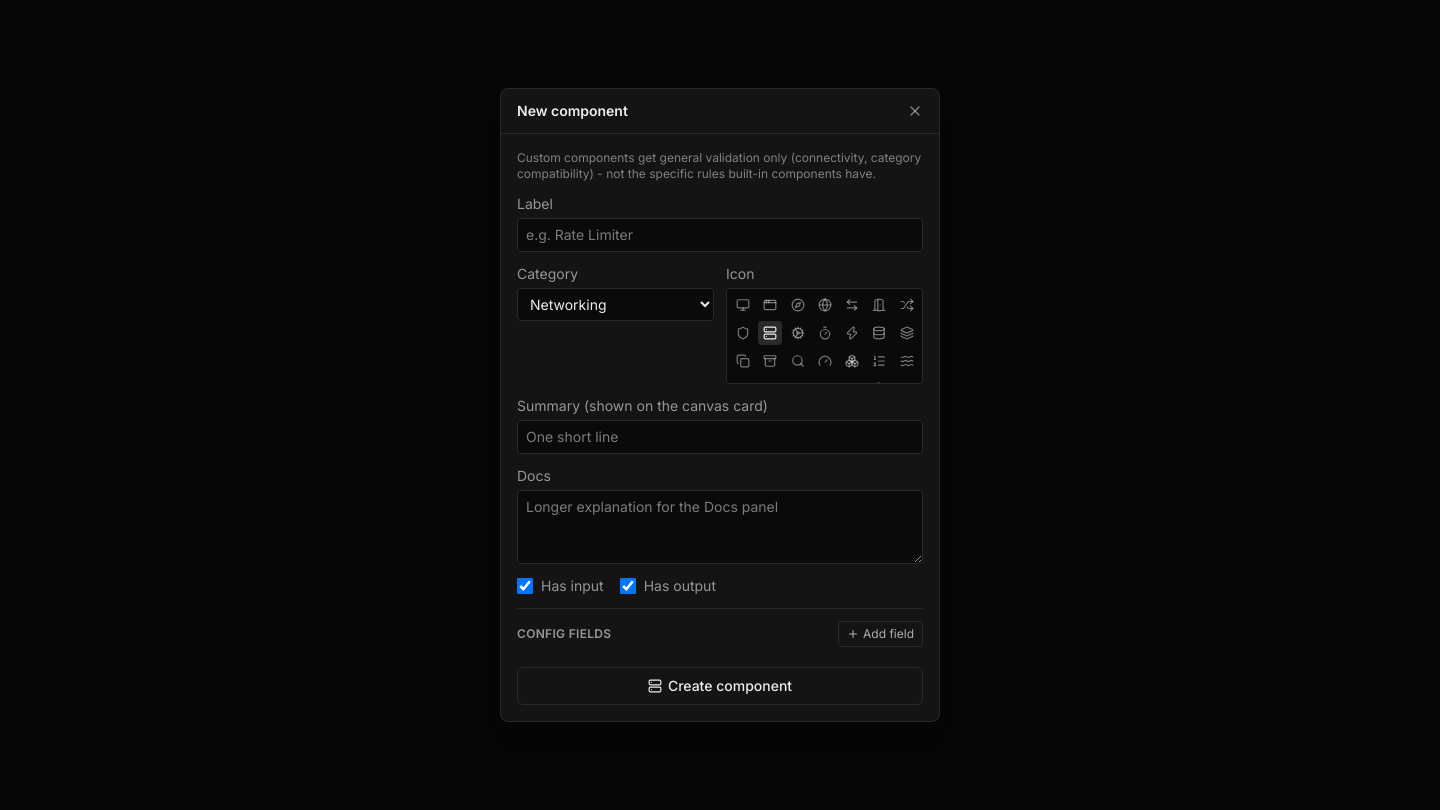
Scenario: CreateComponentModal › blocks save with a field-specific error when an enum field has no options
This screenshot has width=1440, height=810.
Type "Widget" into the field with placeholder "e.g. Rate Limiter" at (720, 235), box x1=517 y1=218 x2=923 y2=252
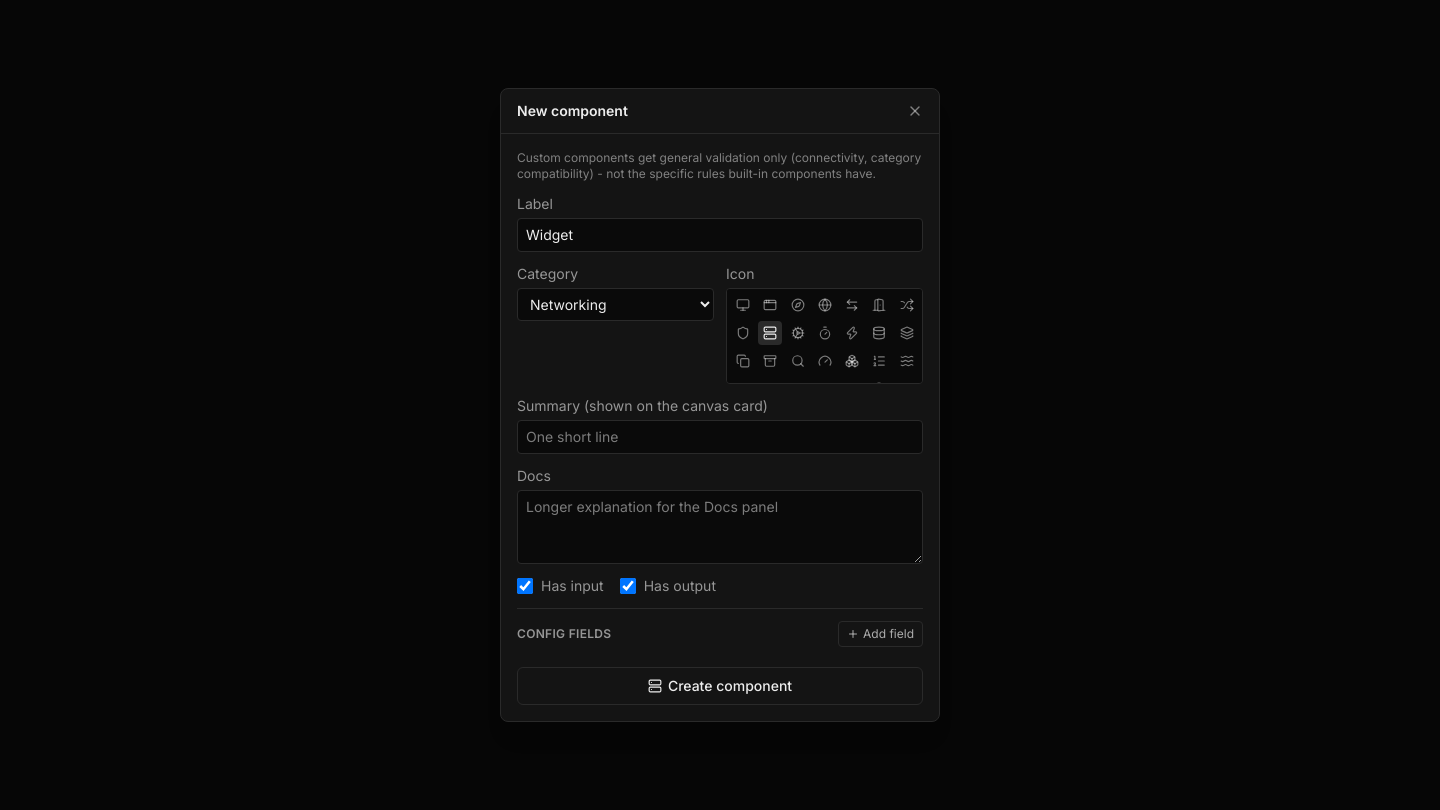
Click the button "Add field" at (880, 634), box x1=838 y1=621 x2=923 y2=647
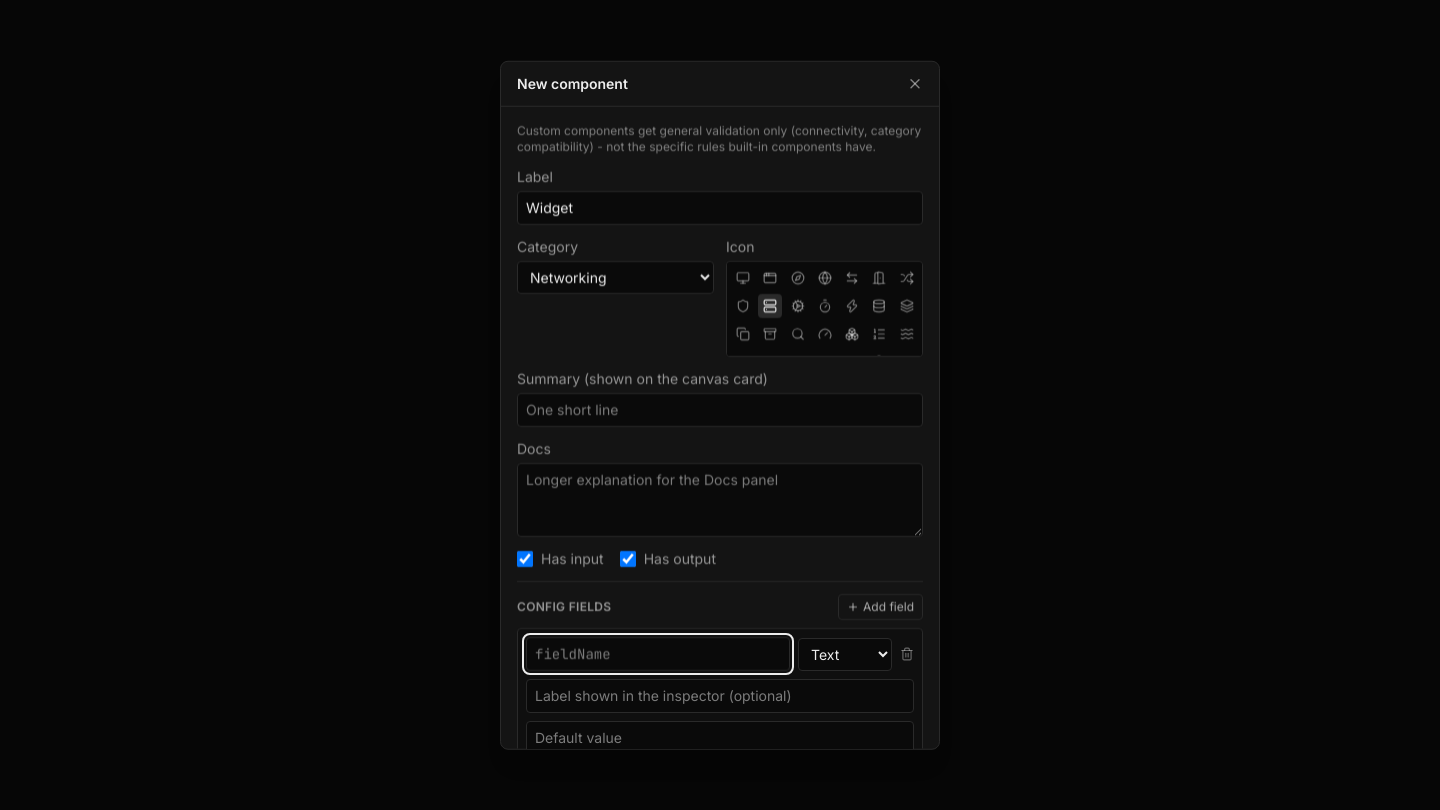
Type "tier" into the field with placeholder "fieldName" at (658, 654), box x1=526 y1=637 x2=790 y2=671
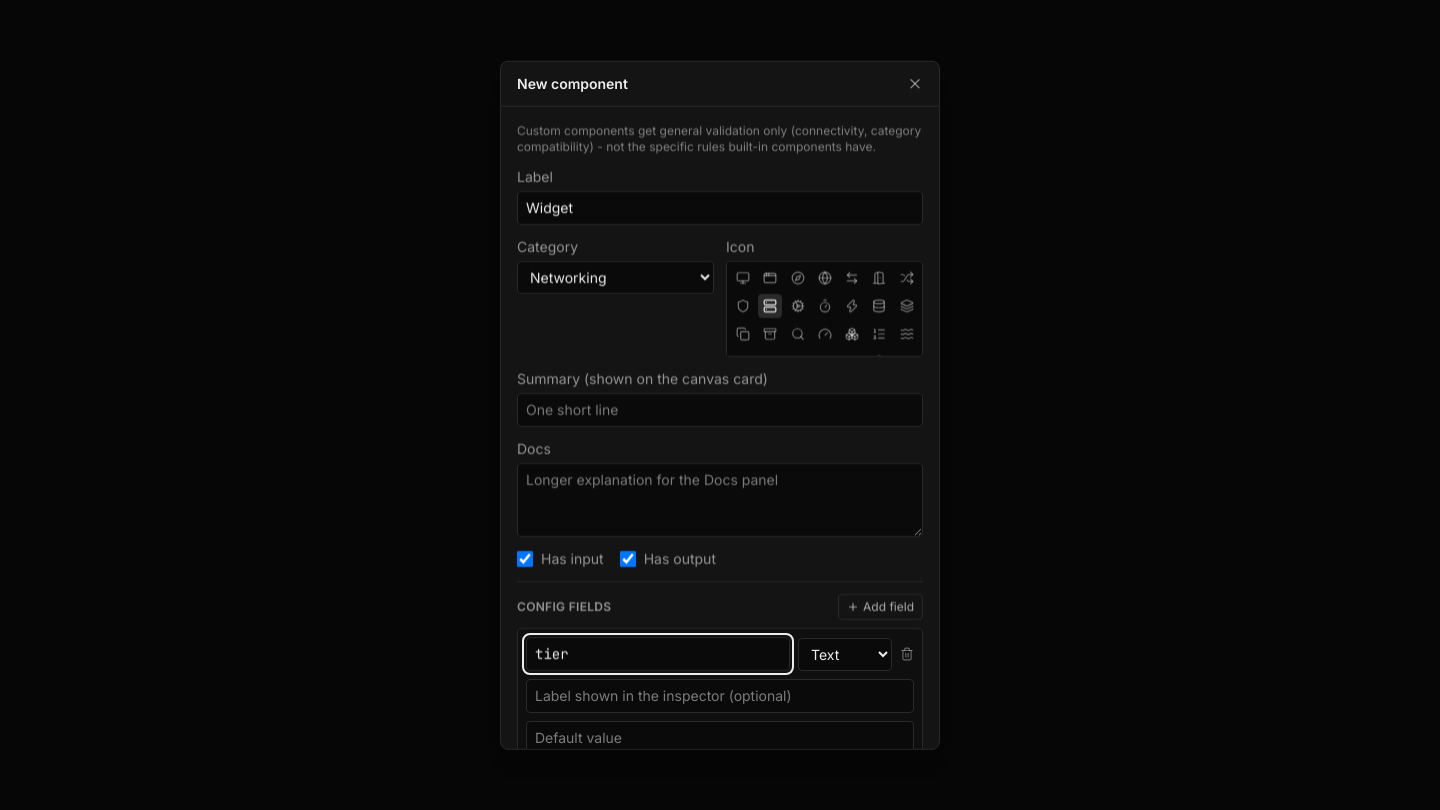
Select "Choice" in the dropdown showing "Text" at (845, 654), box x1=798 y1=637 x2=892 y2=670
(page scrolled)
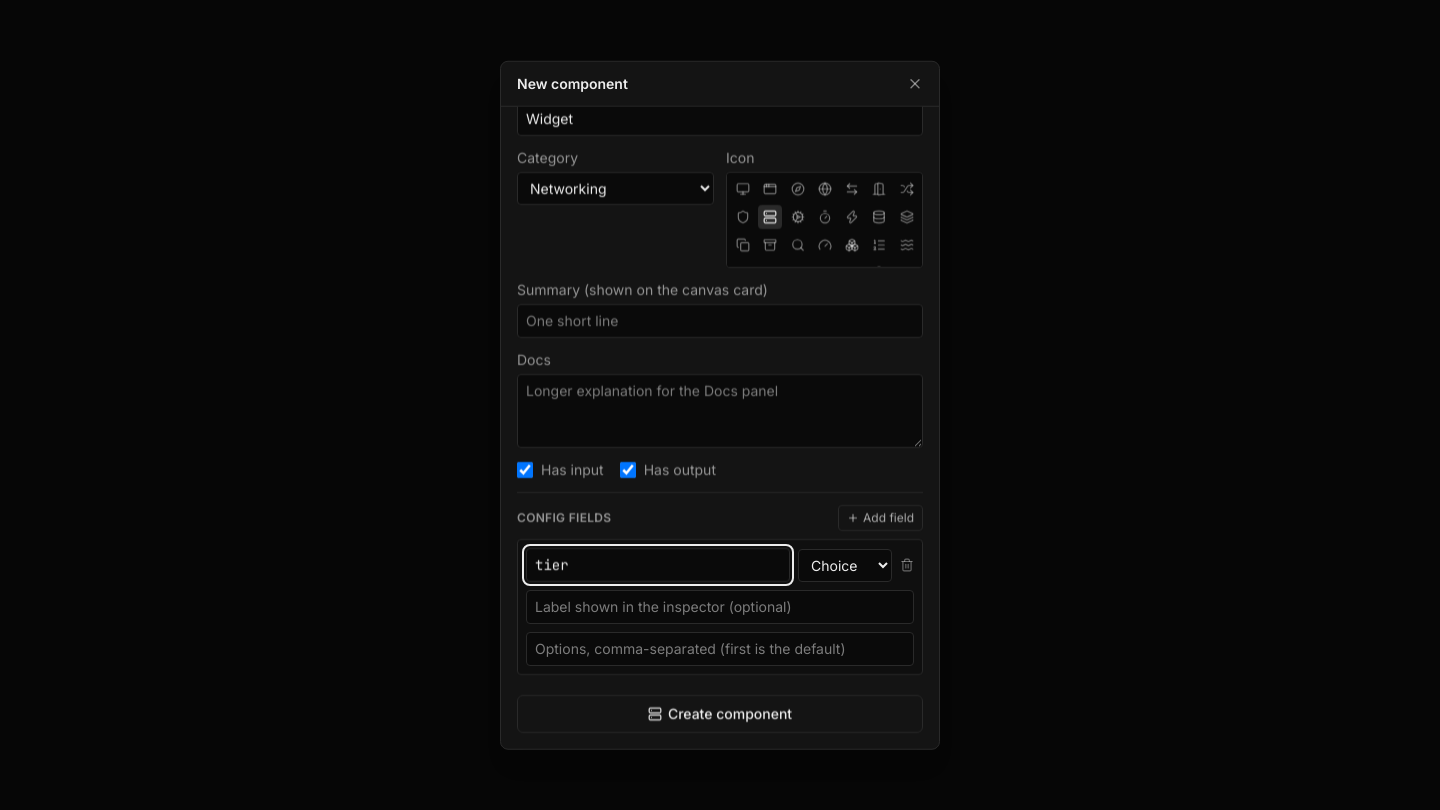
Click the button "Create component" at (720, 714), box x1=517 y1=695 x2=923 y2=733
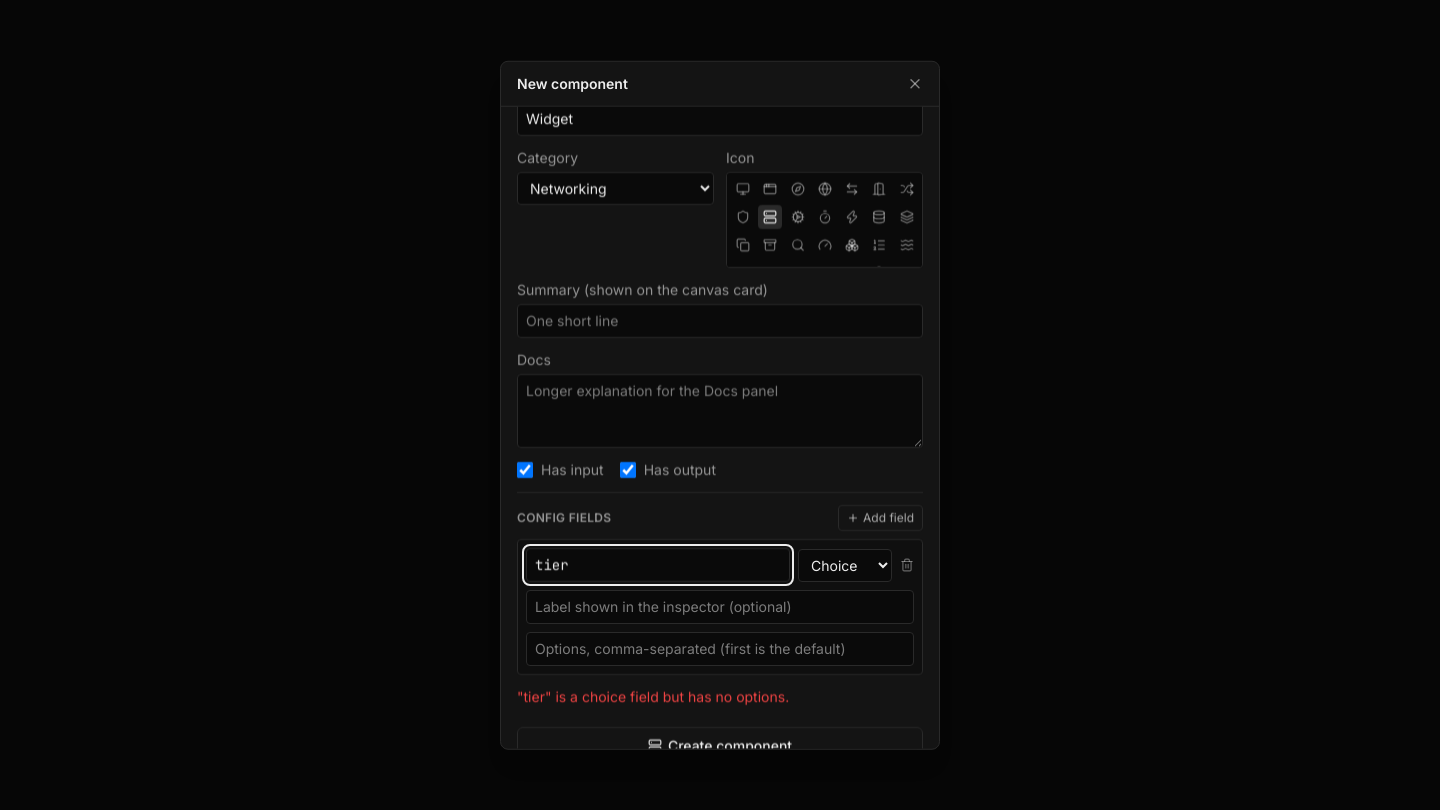
Expected: the text "\"tier\" is a choice field but has no options." is shown, x1=517 y1=688 x2=789 y2=705
